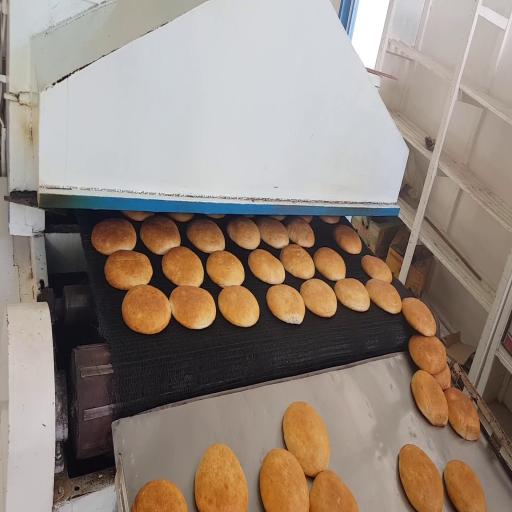bread: (195, 444, 248, 511), (283, 402, 330, 476), (260, 448, 309, 511), (399, 445, 443, 511), (122, 285, 171, 334), (444, 460, 486, 511), (411, 370, 448, 426), (169, 286, 216, 329), (310, 470, 358, 511), (104, 250, 152, 290), (444, 388, 480, 440), (131, 480, 187, 511), (218, 286, 259, 327), (91, 219, 136, 255), (162, 247, 203, 286), (140, 216, 180, 255), (267, 284, 305, 324), (409, 335, 446, 374), (300, 279, 337, 317), (206, 251, 244, 287), (248, 249, 285, 284), (402, 298, 436, 336), (187, 219, 225, 253), (280, 244, 314, 279), (366, 279, 401, 313), (335, 278, 370, 311), (227, 217, 260, 249), (314, 247, 345, 281), (256, 217, 289, 248), (286, 217, 314, 247), (362, 255, 392, 283), (333, 225, 361, 254), (433, 363, 451, 390), (123, 211, 154, 221), (166, 213, 194, 222), (320, 216, 339, 224), (270, 215, 286, 221), (207, 214, 225, 219), (300, 216, 312, 222)
